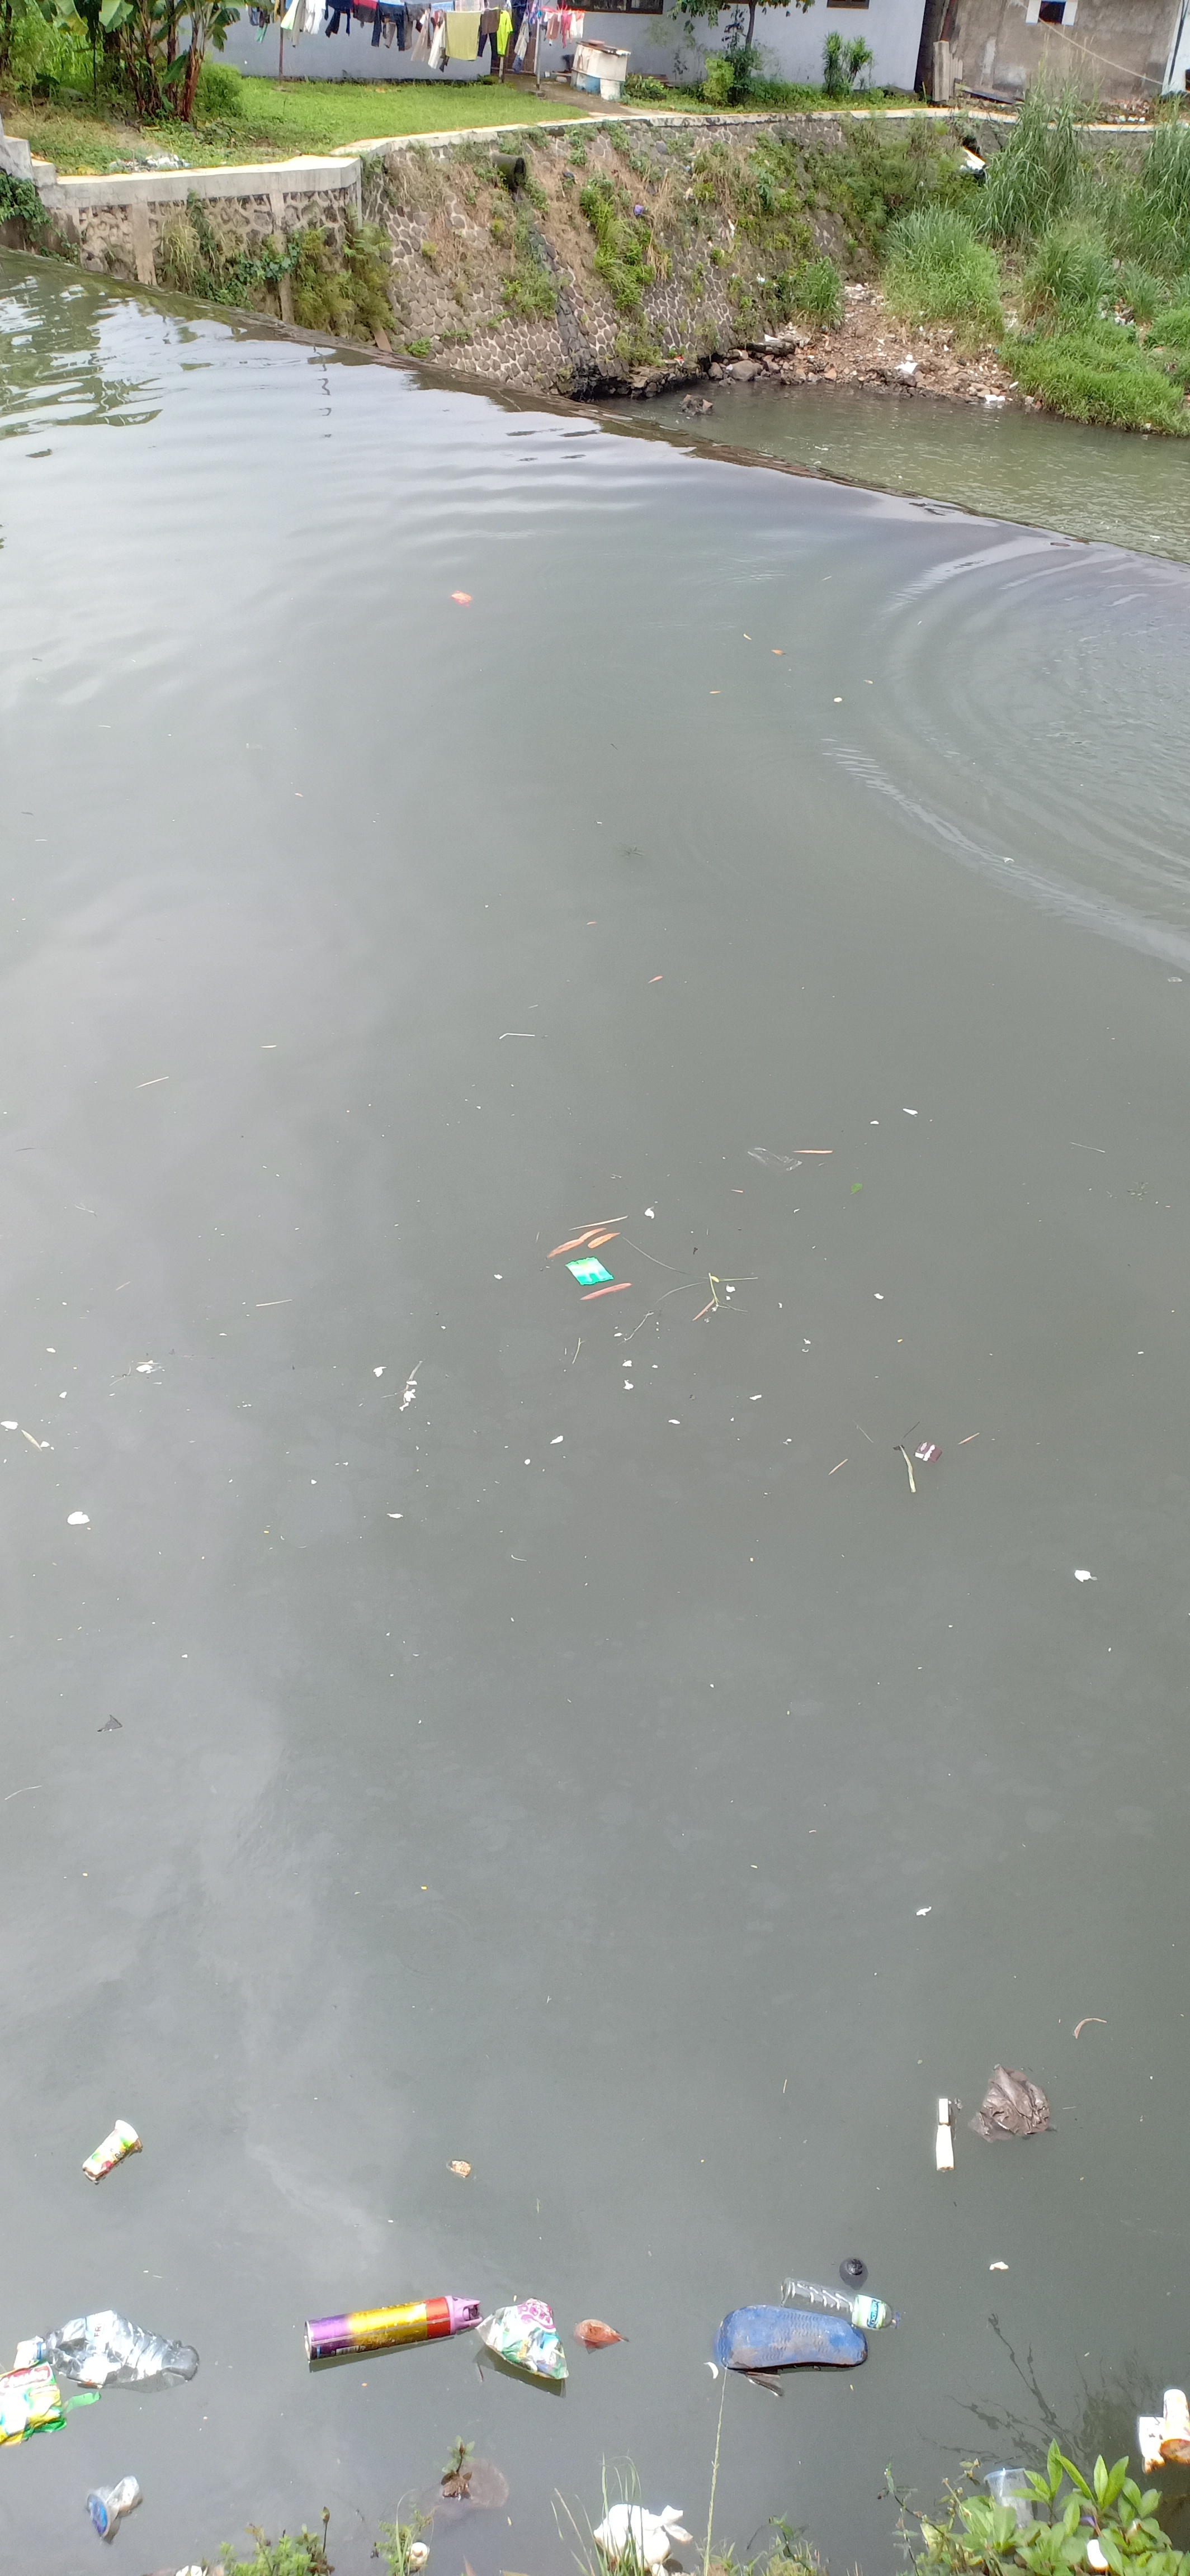Plastic Bottle: (31, 2308, 199, 2385), (781, 2275, 902, 2331), (937, 2124, 955, 2172)
